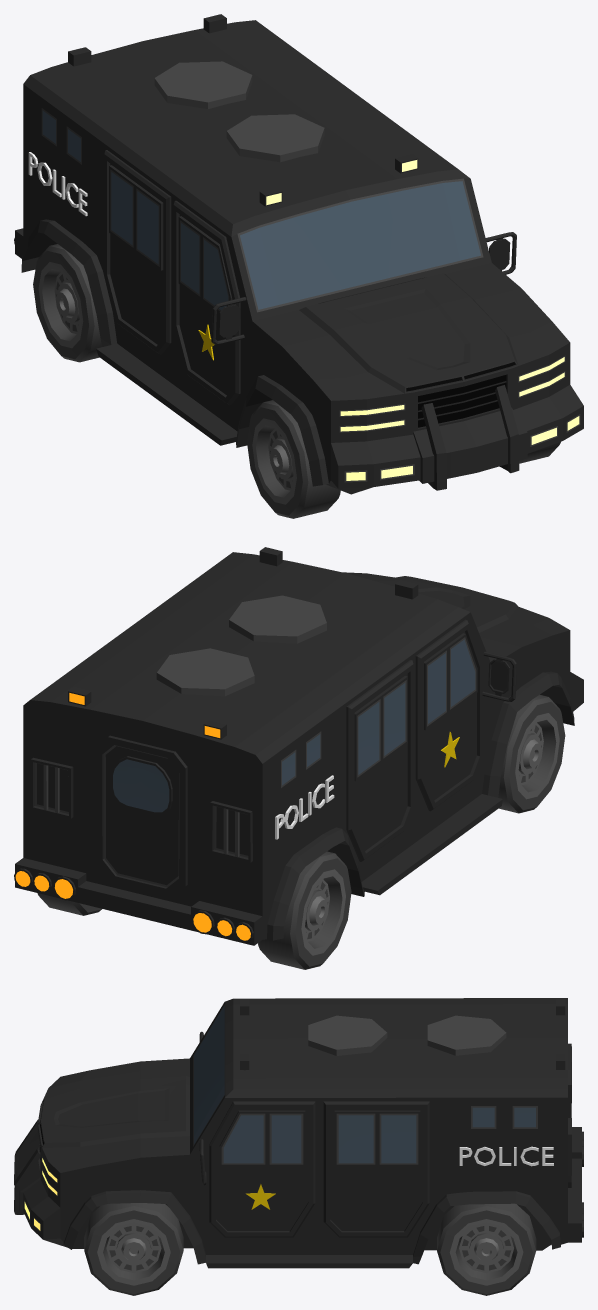
Rendered from Military_Vehicle_3.glb.
3 renders of one model, top to bottom at view 1: azimuth 30°, elevation 25°; view 2: azimuth 150°, elevation 25°; view 3: azimuth 270°, elevation 25°, orthographic. The views are drawn at different scales.
Visible parts, largest first — view 1: Military Vehicle_3, Military Vehicle_3 FR Tire, Military Vehicle_3 BR Tire; view 2: Military Vehicle_3, Military Vehicle_3 BR Tire, Military Vehicle_3 FR Tire, Military Vehicle_3 BL Tire; view 3: Military Vehicle_3, Military Vehicle_3 FL Tire, Military Vehicle_3 BL Tire.
Part boxes in pixels (x1=…): Military Vehicle_3: x1=14, y1=14, x2=583, y2=494; Military Vehicle_3 FR Tire: x1=247, y1=400, x2=340, y2=518; Military Vehicle_3 BR Tire: x1=33, y1=244, x2=101, y2=362; Military Vehicle_3: x1=14, y1=547, x2=583, y2=945; Military Vehicle_3 BR Tire: x1=258, y1=851, x2=351, y2=969; Military Vehicle_3 FR Tire: x1=498, y1=694, x2=565, y2=813; Military Vehicle_3 BL Tire: x1=37, y1=893, x2=101, y2=915; Military Vehicle_3: x1=14, y1=998, x2=583, y2=1268; Military Vehicle_3 FL Tire: x1=84, y1=1203, x2=183, y2=1295; Military Vehicle_3 BL Tire: x1=437, y1=1203, x2=536, y2=1295.
Bounding box in the file's own units: 3.28 × 2.69 × 6.47.
2 materials, 2 textured.
